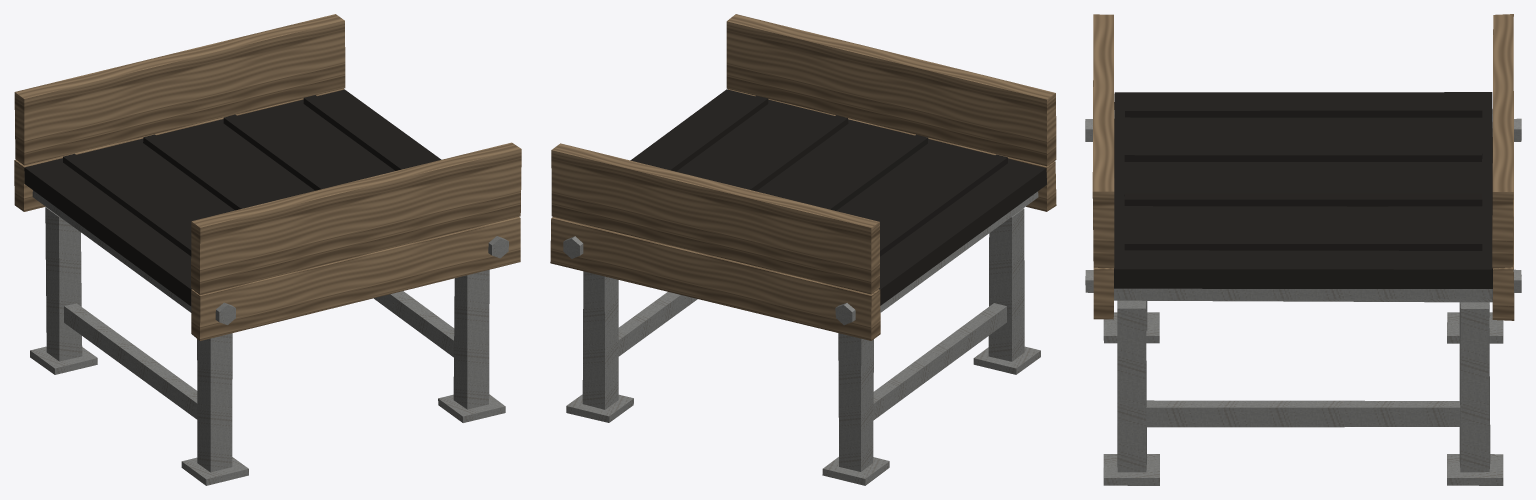
Rendered from conveyor_straight.glb.
The picture shows the model from 3 angles, left to right: view 1: azimuth 30°, elevation 25°; view 2: azimuth 150°, elevation 25°; view 3: azimuth 270°, elevation 25°; orthographic projection. The views are drawn at different scales.
Visible parts, largest first — view 1: ConveyorStraight, Belt, Roller; view 2: ConveyorStraight, Belt, Roller; view 3: Belt, ConveyorStraight, Roller2.
Part boxes in pixels (x1=…): ConveyorStraight: x1=14, y1=14, x2=521, y2=485; Belt: x1=24, y1=89, x2=441, y2=305; Roller: x1=32, y1=190, x2=191, y2=312; ConveyorStraight: x1=550, y1=14, x2=1056, y2=485; Belt: x1=630, y1=89, x2=1046, y2=305; Roller: x1=880, y1=191, x2=1038, y2=312; Belt: x1=1114, y1=92, x2=1492, y2=288; ConveyorStraight: x1=1085, y1=14, x2=1521, y2=485; Roller2: x1=1114, y1=288, x2=1492, y2=302.
Bounding box in the file's own units: 1.68 × 1.33 × 1.74.
3 materials, 2 textured.
